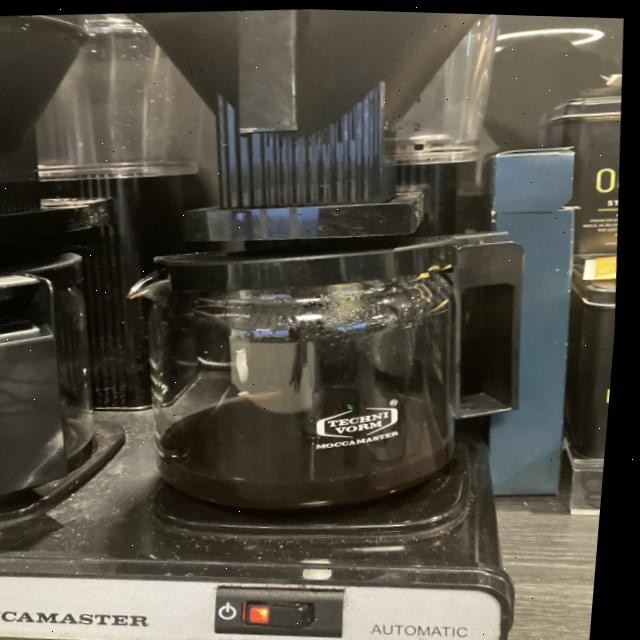nocoffee: (0, 238, 112, 534)
